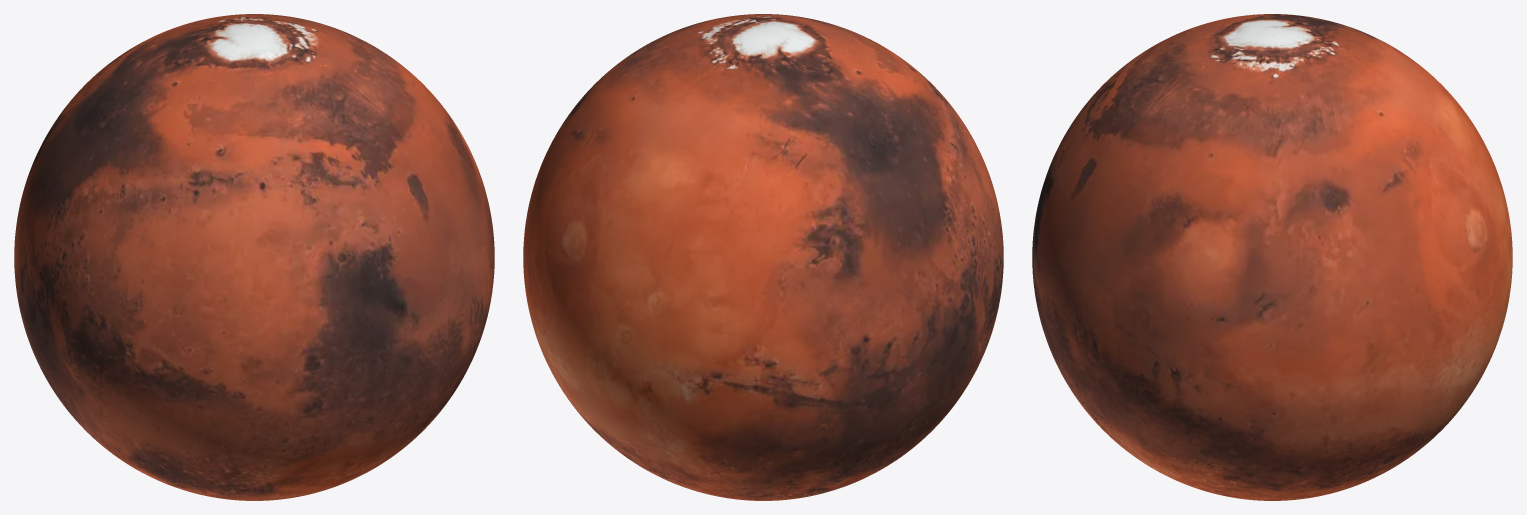
File: mars-transformed.glb
3 views of the same model, side by side, from view 1: azimuth 30°, elevation 25°; view 2: azimuth 150°, elevation 25°; view 3: azimuth 270°, elevation 25° (orthographic).
Parts seen in each view (by area): view 1: pSphere1_lambert3_0; view 2: pSphere1_lambert3_0; view 3: pSphere1_lambert3_0.
Part boxes in pixels (x1,y1,x2,y2): pSphere1_lambert3_0: (14,14,494,500); pSphere1_lambert3_0: (523,14,1003,500); pSphere1_lambert3_0: (1032,14,1512,500).
Bounding box in the file's own units: 14.38 × 14.65 × 14.38.
1 material, 1 textured.
